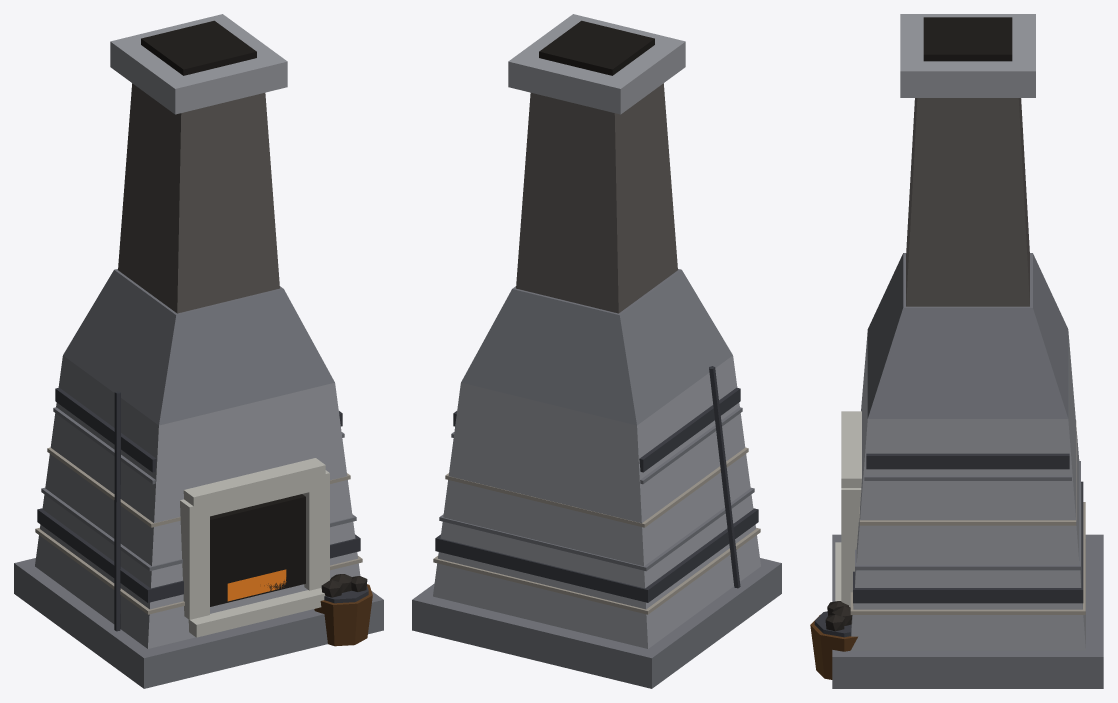
File: furnace.glb
The picture shows the model from 3 angles, left to right: view 1: azimuth 30°, elevation 25°; view 2: azimuth 150°, elevation 25°; view 3: azimuth 270°, elevation 25°; orthographic projection. The views are drawn at different scales.
Parts seen in each view (by area): view 1: furnace; view 2: furnace; view 3: furnace.
Boxes of the visible parts, box(x1,y1,x2,y2) form: furnace: box(14, 14, 383, 688); furnace: box(412, 14, 781, 688); furnace: box(810, 14, 1103, 688).
Bounding box in the file's own units: 0.98 × 2.22 × 0.995.
